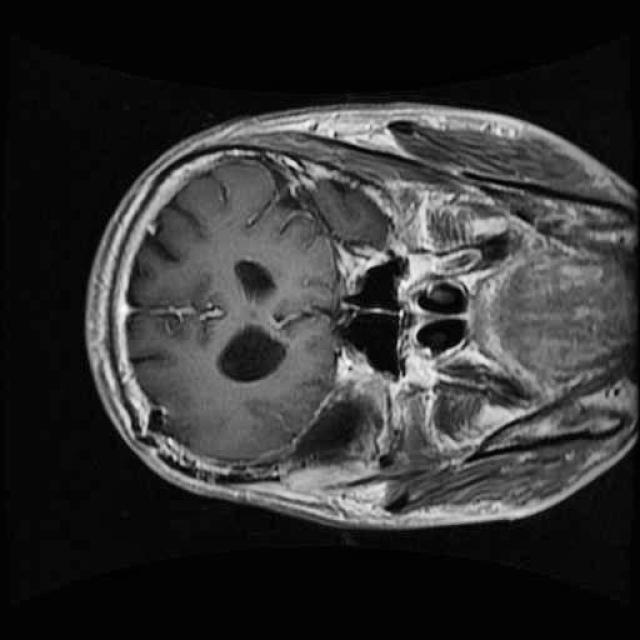Non-Tumor: (268, 379, 398, 492)
